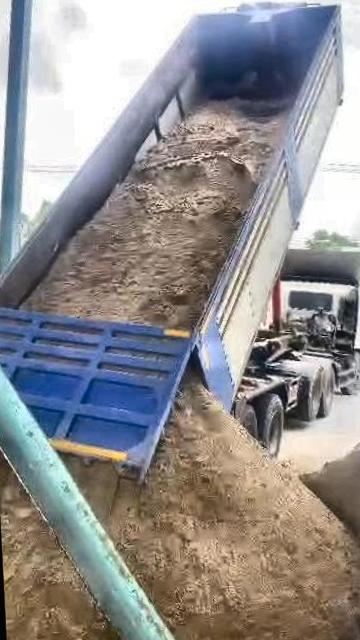sand: (67, 376, 360, 640), (26, 102, 283, 328), (2, 477, 138, 640), (304, 433, 360, 560)
